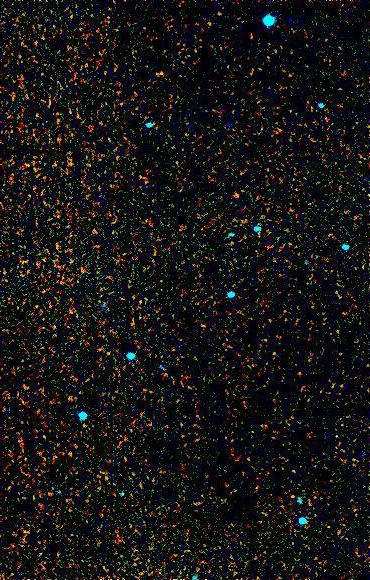star: (173, 108, 203, 138)
